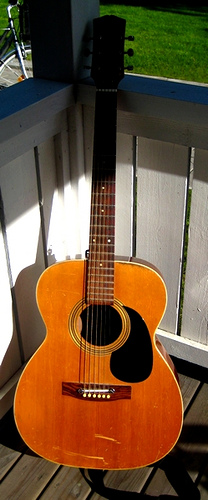guitar: (12, 11, 187, 471)
